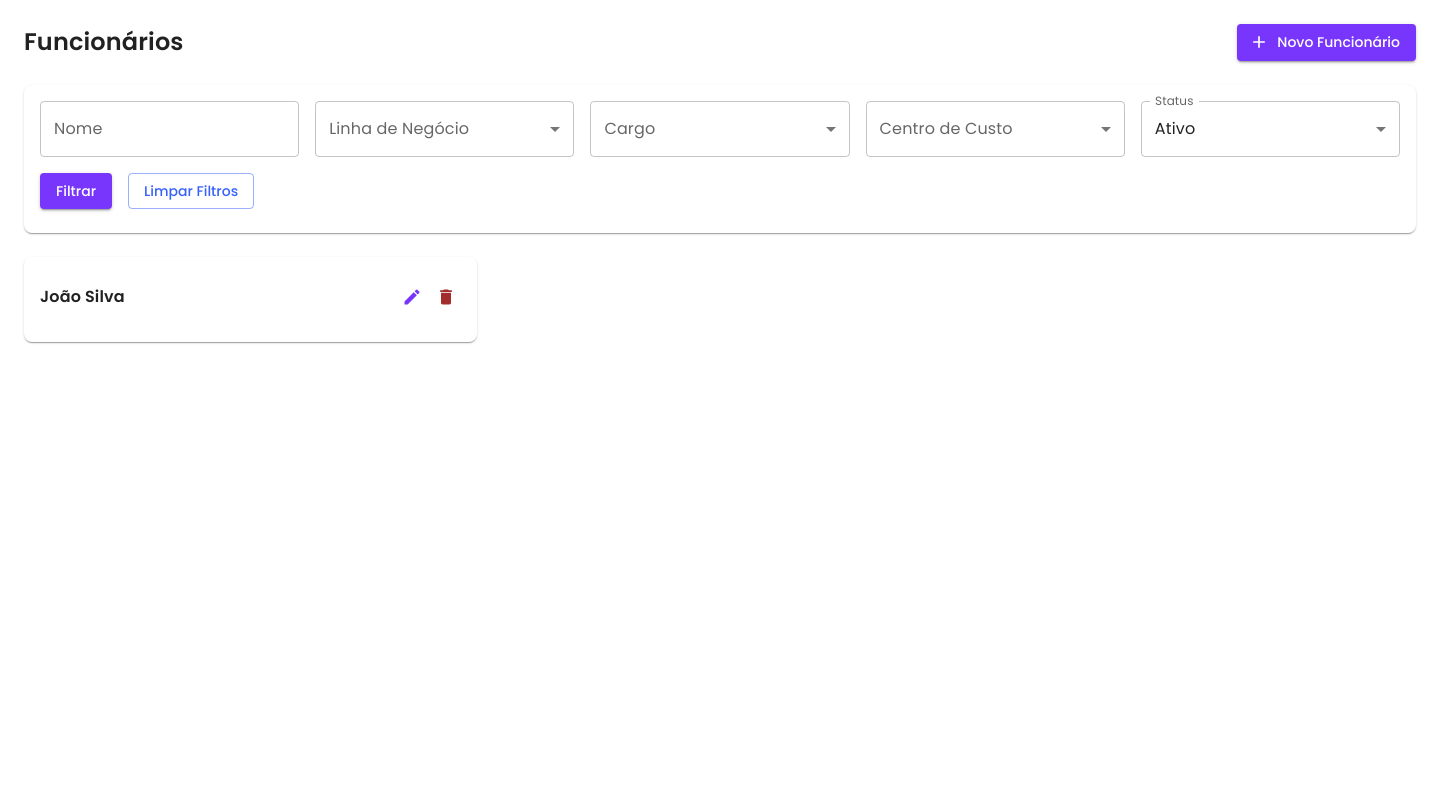
Test case: Funcionarios page › opens edit dialog from card button
Expected: the heading "João Silva" is shown, [40,285,125,308]
Click the button named "Editar" at (412, 297), box [397,282,427,312]
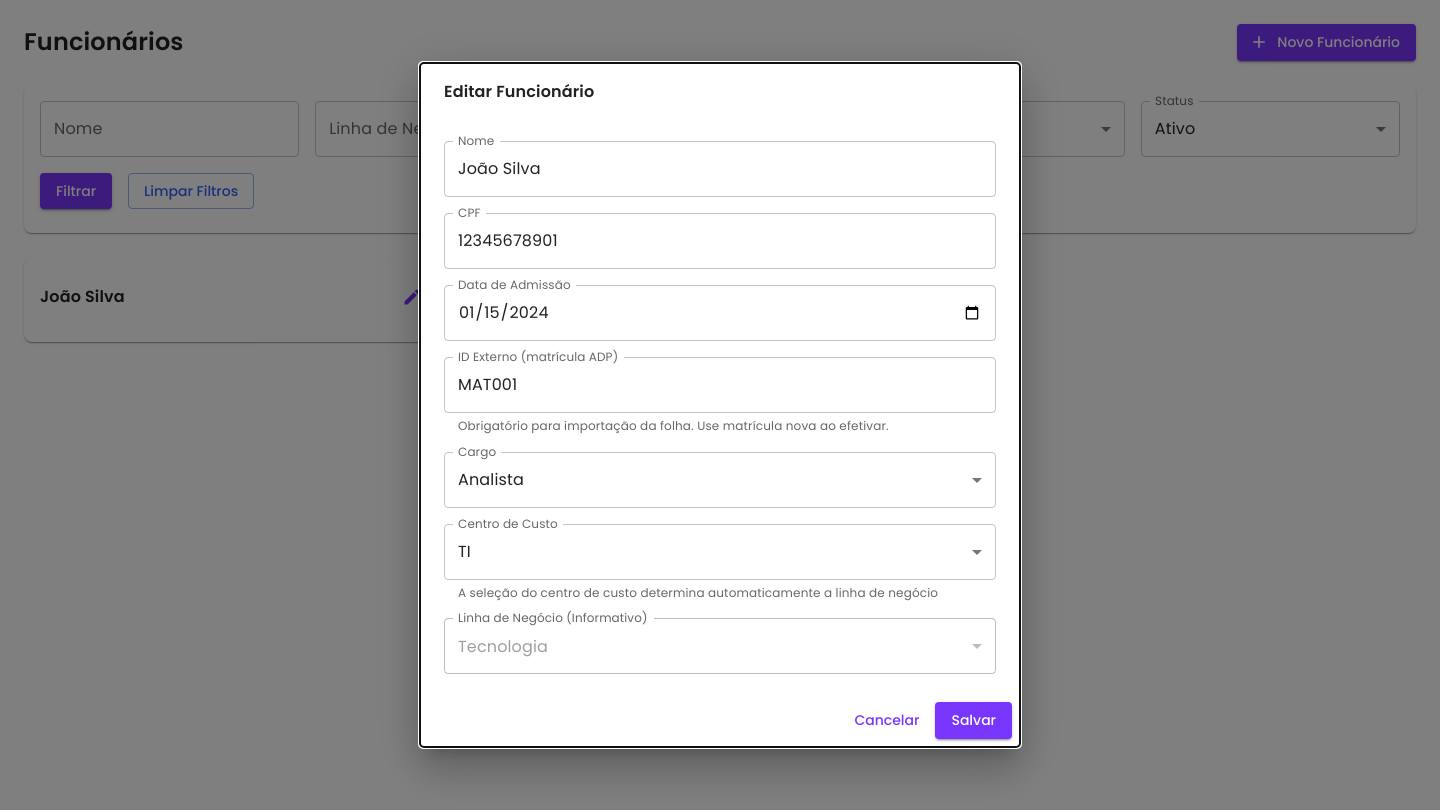
Result: the heading "Editar Funcionário" is shown at [444,80,594,103]
